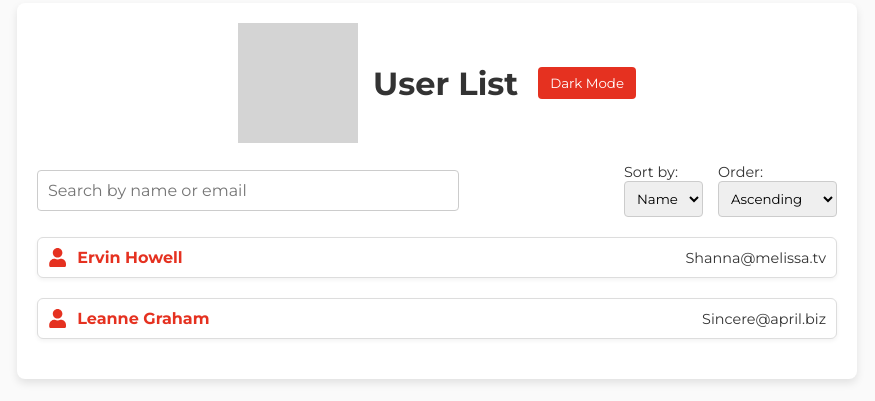
Scenario: filters users based on search input
This screenshot has width=875, height=401.
Expected: the text "Leanne Graham" is shown, [77,309,210,328]
Expected: the text "Ervin Howell" is shown, [77,248,183,267]
Note: Find the search input and type a query
Type "Leanne" into the field with placeholder "Search by name or email".
click(248, 190); type("Leanne")  # box [37,170,459,210]
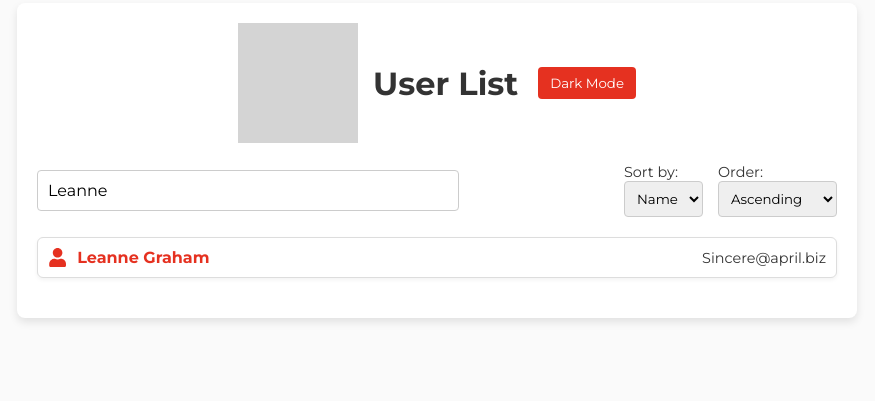
Expected: the text "Leanne Graham" is shown, [77,248,210,267]
Result: the text "Ervin Howell" is gone
